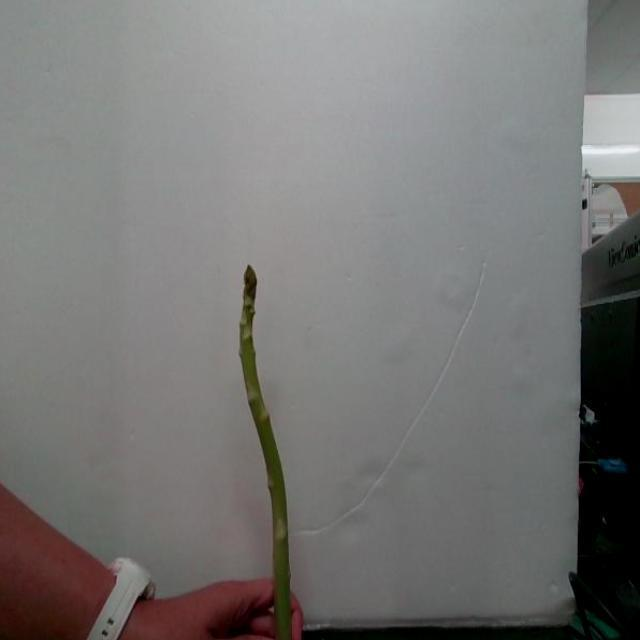aspargus: (240, 267, 293, 640)
